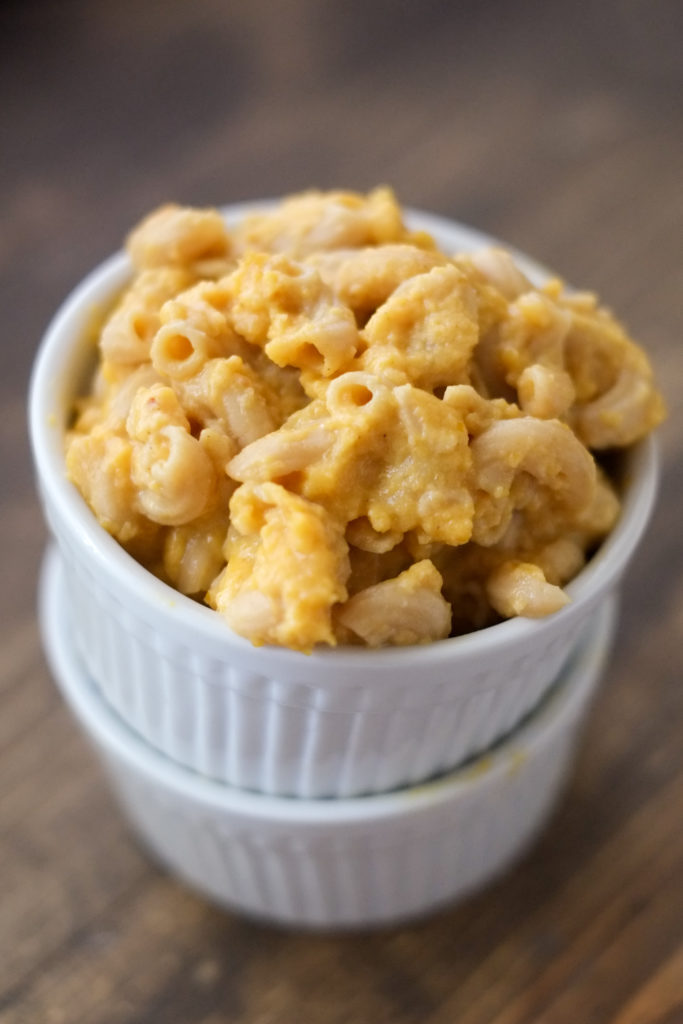macncheese: (58, 240, 640, 628)
